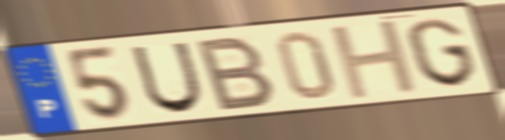0: (273, 29, 340, 103)
5: (62, 44, 134, 126)
B: (195, 33, 279, 114)
G: (404, 15, 481, 89)
H: (326, 17, 423, 103)
U: (128, 39, 206, 116)
